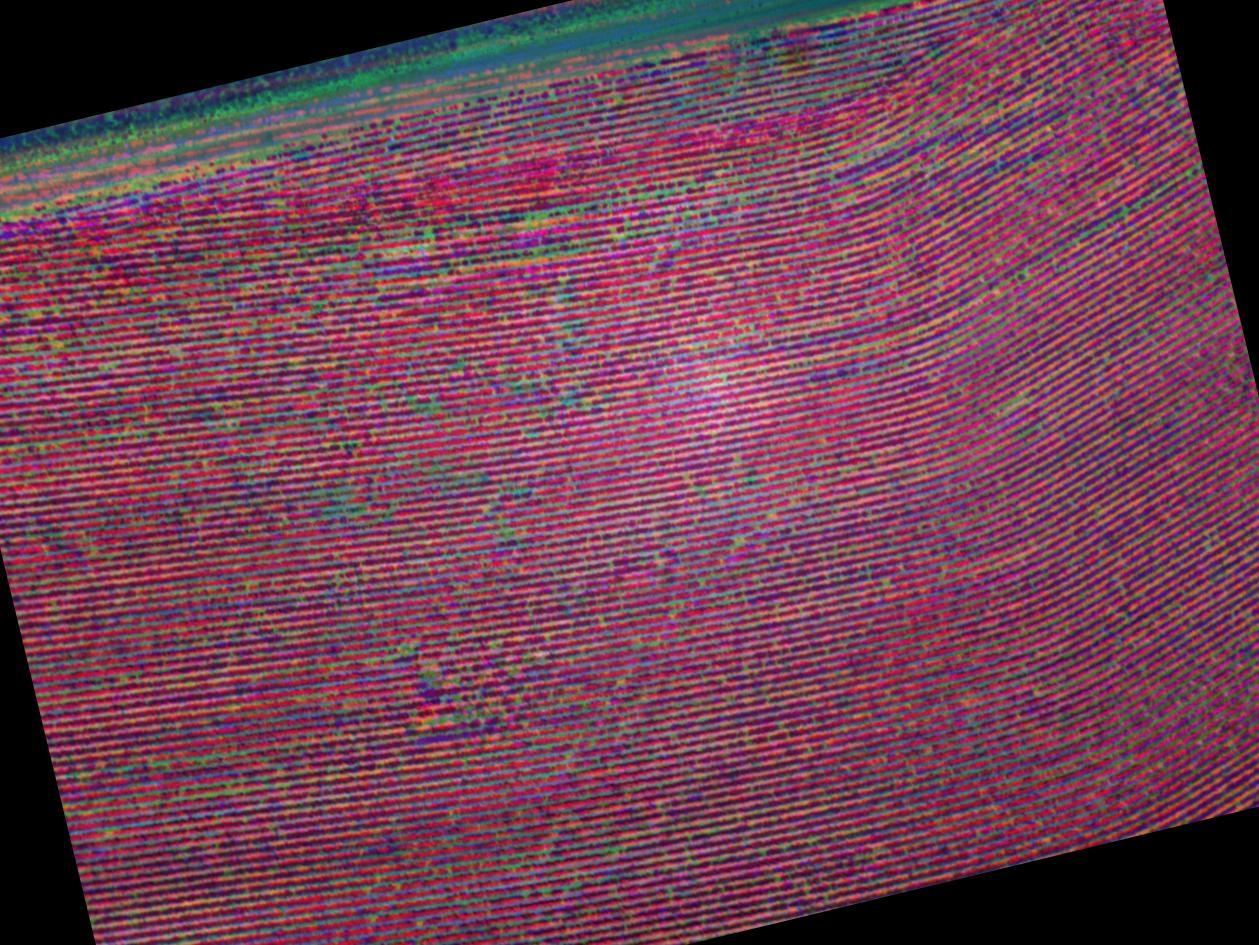dc: (512, 180, 633, 257), (359, 194, 460, 279), (314, 472, 399, 550)
